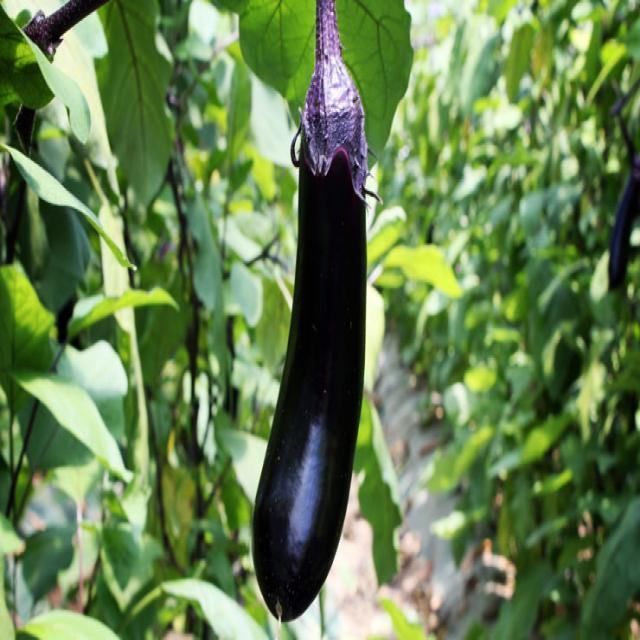eggplant: (251, 0, 380, 640)
